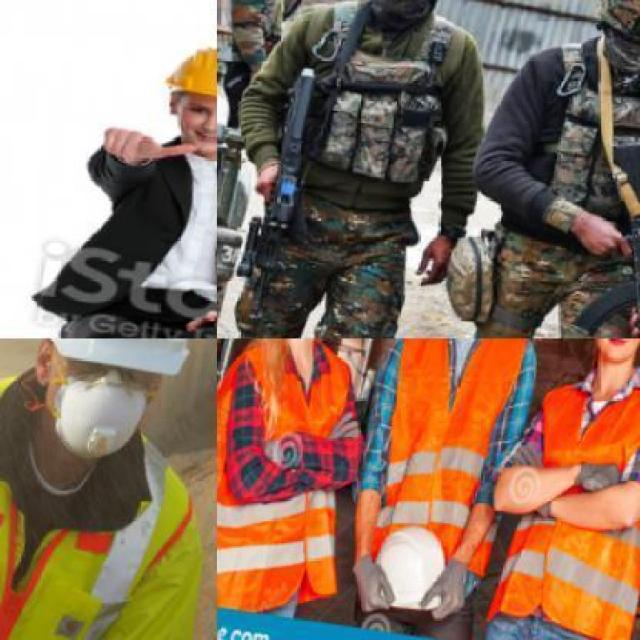Vest: (0, 350, 215, 638), (217, 338, 394, 612), (363, 338, 548, 584), (283, 0, 479, 223), (500, 357, 638, 638), (520, 23, 638, 282)
